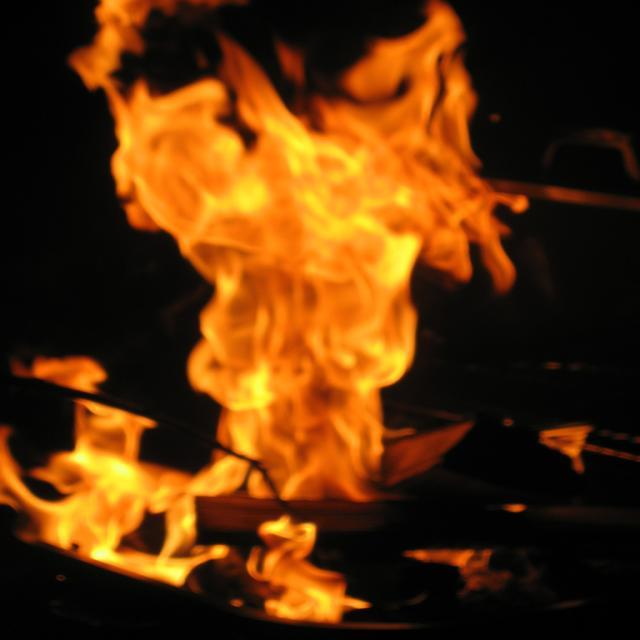Fire: (221, 153, 377, 474), (63, 454, 144, 534)
